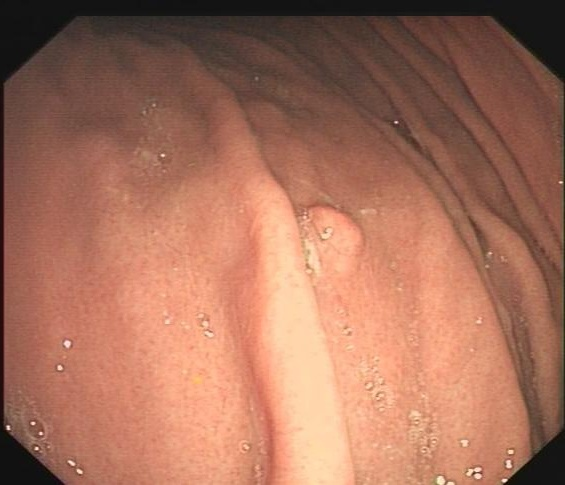Polyp: (302, 199, 371, 260)
